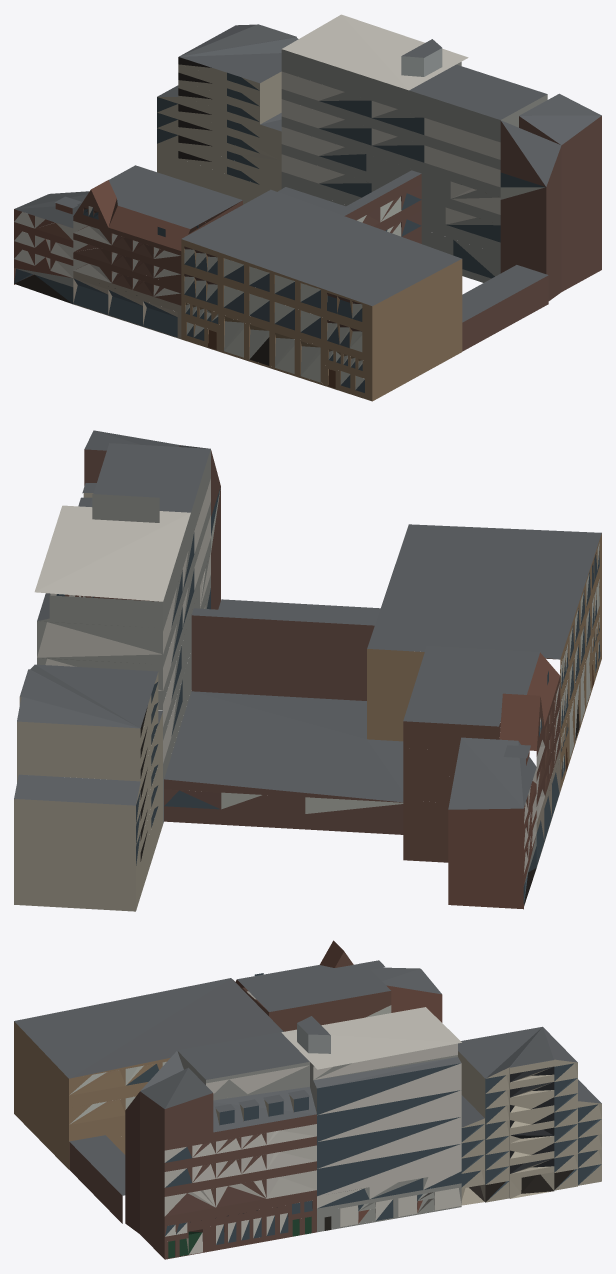
File: da-costakade-146.lod2.glb
3 renders of one model, top to bottom at view 1: azimuth 30°, elevation 25°; view 2: azimuth 150°, elevation 25°; view 3: azimuth 270°, elevation 25°, orthographic. The views are drawn at different scales.
Parts seen in each view (by area): view 1: lod2; view 2: lod2; view 3: lod2.
Part boxes in pixels (x1,y1,x2,y2): lod2: (14, 14, 601, 401); lod2: (14, 430, 601, 911); lod2: (14, 940, 601, 1259).
Size of the model in its own units: 82.32 by 32.6 by 94.23.
